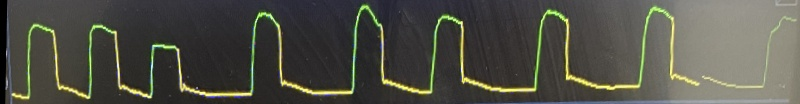normal_pressure: (11, 2, 697, 104)
